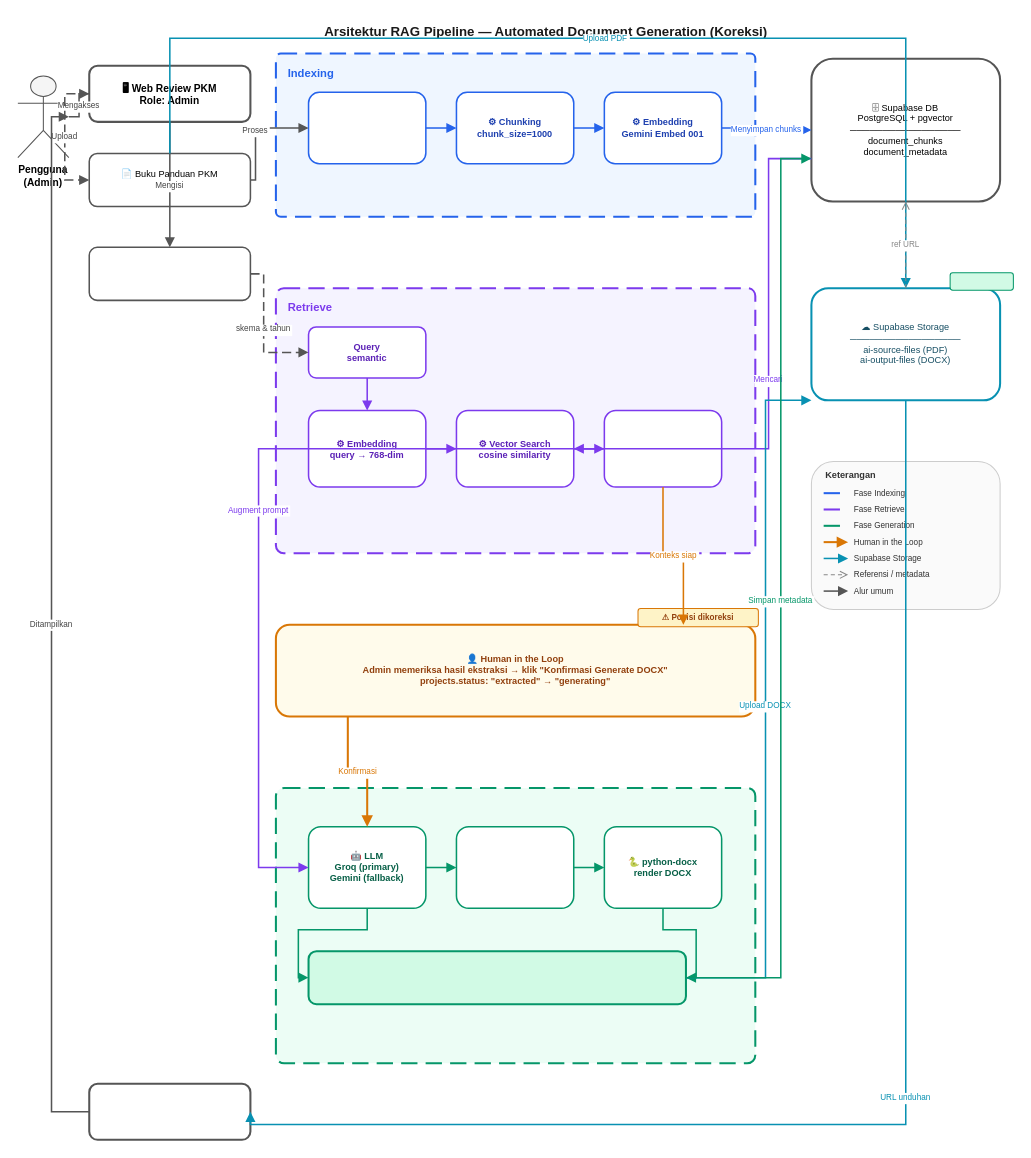
Image size: 1031x1158. Some labels were removed from this diagram. Each missing label, with the box of its shape:
Generation: (274, 786, 756, 1064)
⚙ Ekstrak Teks pymupdf4llm: (307, 91, 426, 164)
✦ Komponen Baru: (949, 272, 1013, 290)
📄 Template Proposal (.docx) — Output: (307, 950, 686, 1005)
📄 TOP_K Chunks + context expand: (603, 409, 722, 487)
📋 Formulir (skema PKM, tahun): (88, 246, 251, 301)
📝 Format Proposal Type A / Type B: (455, 825, 574, 909)
🖥 Web Review PKM Link Unduhan DOCX: (88, 1082, 251, 1140)
